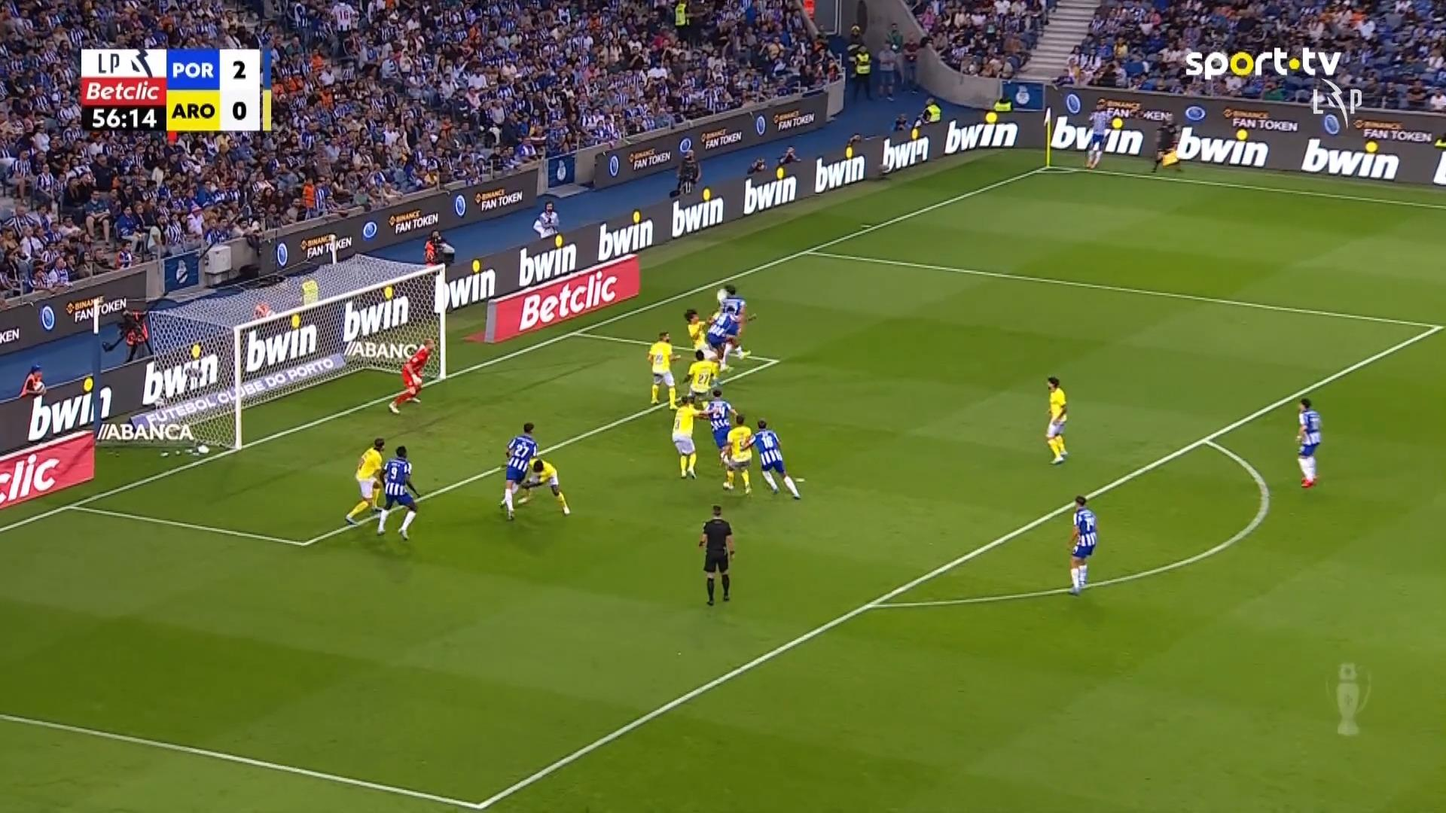ball: (716, 288, 728, 303)
goalkeeper: (387, 337, 435, 414)
player: (745, 418, 802, 499), (373, 444, 419, 540), (498, 421, 537, 519), (343, 437, 386, 525), (670, 392, 710, 480), (517, 457, 571, 515), (1066, 495, 1097, 595), (703, 386, 739, 466), (719, 413, 754, 494), (646, 330, 680, 410), (715, 284, 749, 359), (1295, 396, 1322, 488), (703, 308, 743, 370), (681, 348, 721, 406), (1044, 375, 1068, 464), (1084, 97, 1112, 169), (683, 307, 710, 359)
referee: (697, 504, 735, 604), (1150, 113, 1182, 173)
